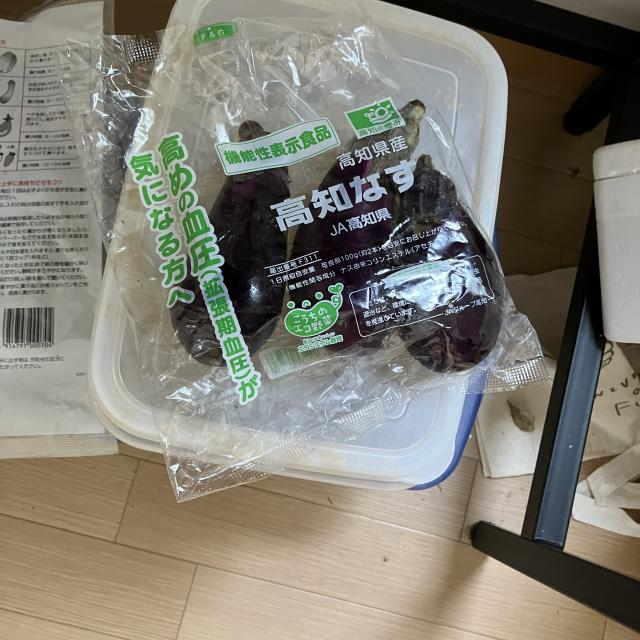eggplant: (284, 96, 430, 354), (166, 116, 295, 370), (392, 150, 511, 374)
